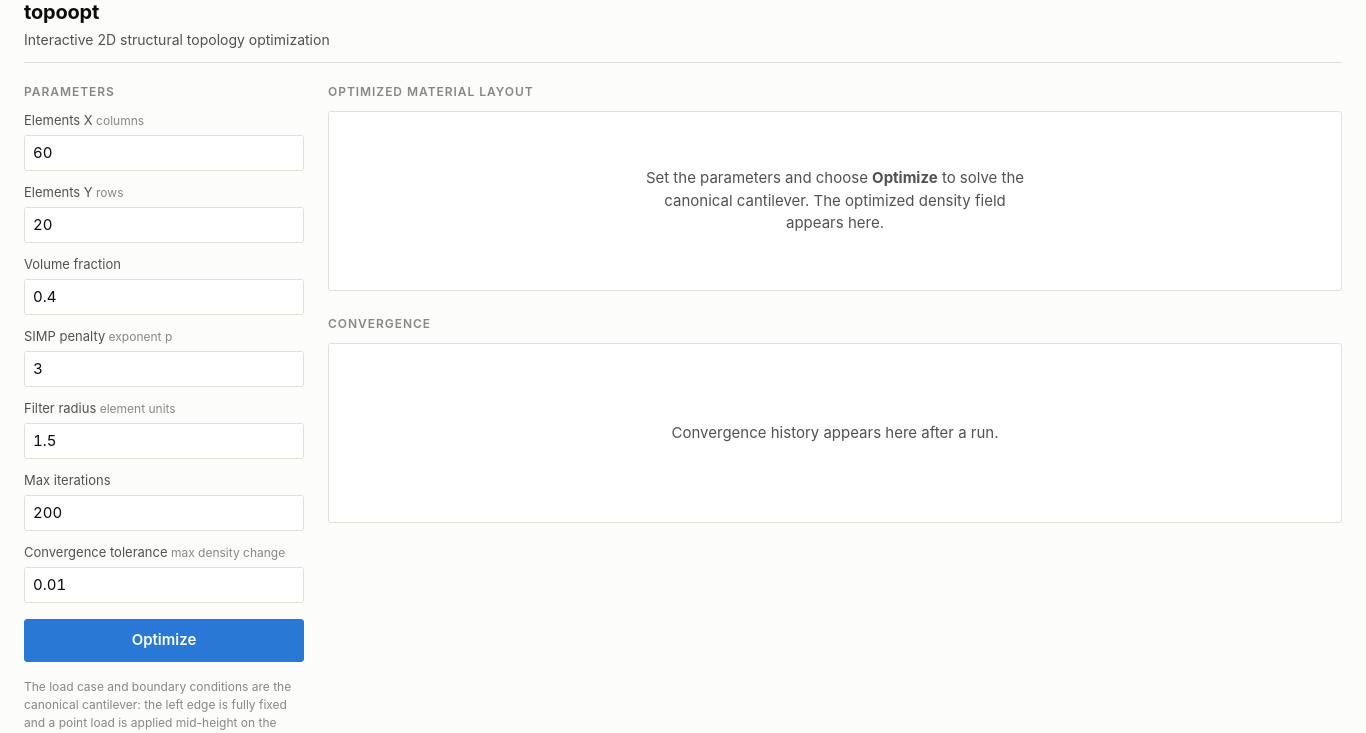
Scenario: a successful run › charts the returned history
The image size is (1366, 733).
Click the button "Optimize" at [164, 640], box [24,619,304,662]
(page scrolled)
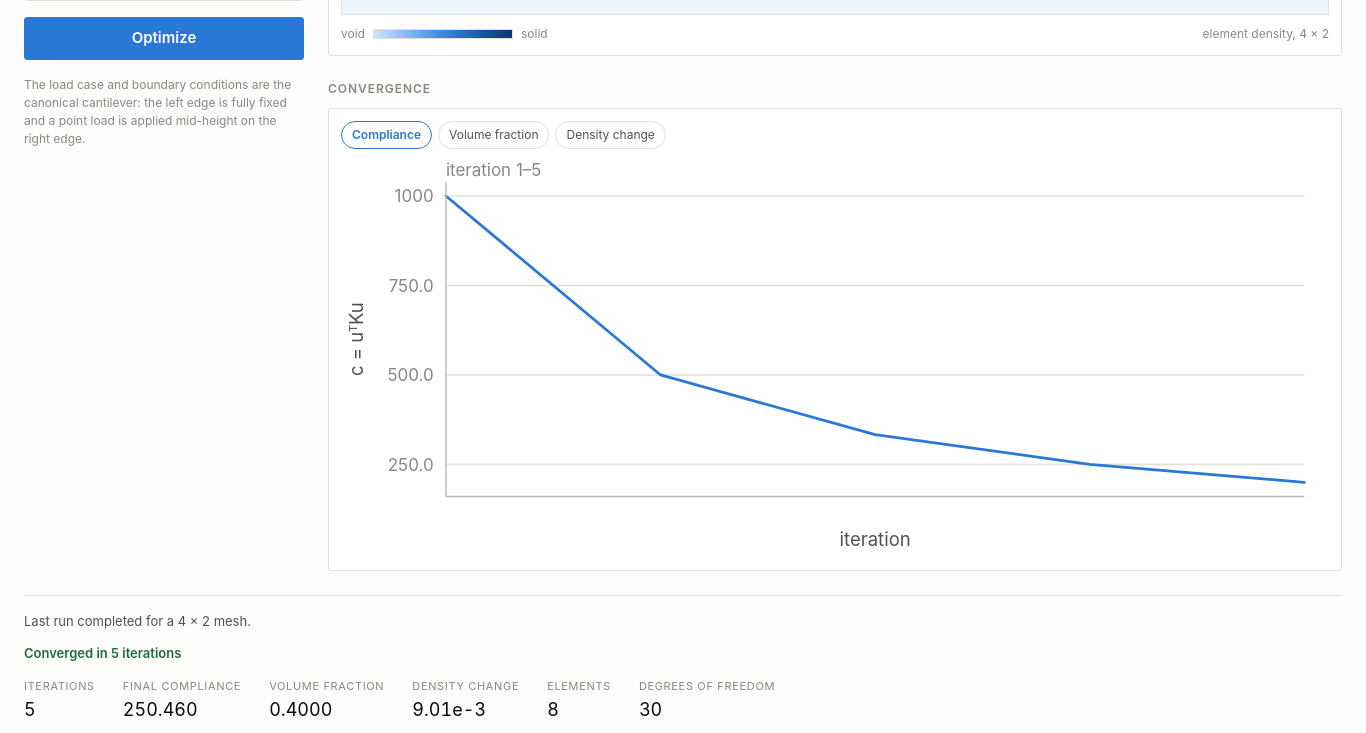
Expected: the text "Converged in 5 iterations" is shown, [24,642,181,666]
Expected: the picture named "compliance over 5 iterations" is shown, [341,157,1329,558]
